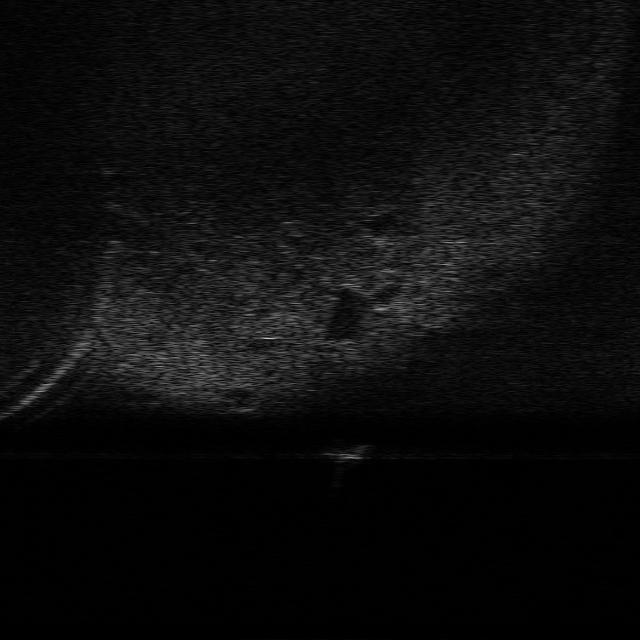cube: (324, 437, 368, 462)
